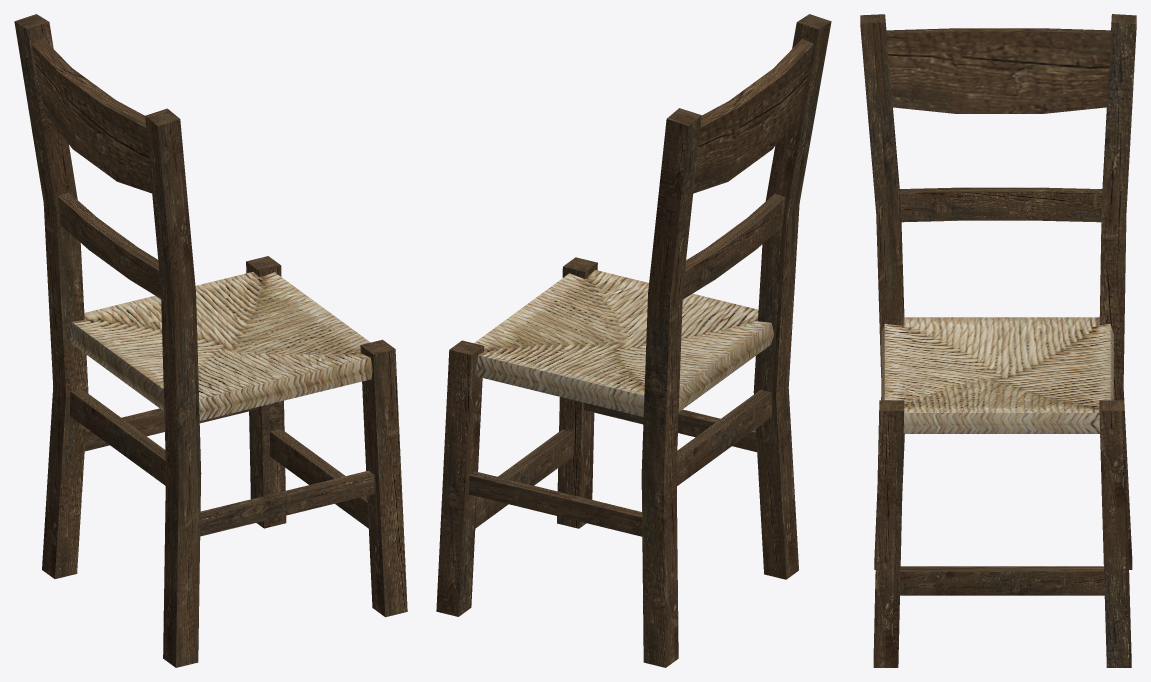
The model's file is ChairCafeBrown01.obj.
3 views of the same model, side by side, from view 1: azimuth 30°, elevation 25°; view 2: azimuth 150°, elevation 25°; view 3: azimuth 270°, elevation 25° (orthographic). The views are drawn at different scales.
Visible parts, largest first — view 1: Box03, OilTank01; view 2: Box03, OilTank01; view 3: Box03, OilTank01.
Part boxes in pixels (x1=…): Box03: x1=14, y1=14, x2=407, y2=667; OilTank01: x1=68, y1=272, x2=372, y2=420; Box03: x1=436, y1=14, x2=831, y2=667; OilTank01: x1=474, y1=270, x2=774, y2=416; Box03: x1=860, y1=14, x2=1136, y2=667; OilTank01: x1=881, y1=317, x2=1113, y2=433.
Bounding box in the file's own units: 0.466 × 0.9529 × 0.4463.
Materials: 2 (2 with a texture image).
